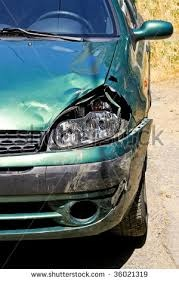Broken-glass: (54, 95, 122, 151)
Dent: (25, 45, 150, 164)
Scratch: (61, 163, 131, 190)
